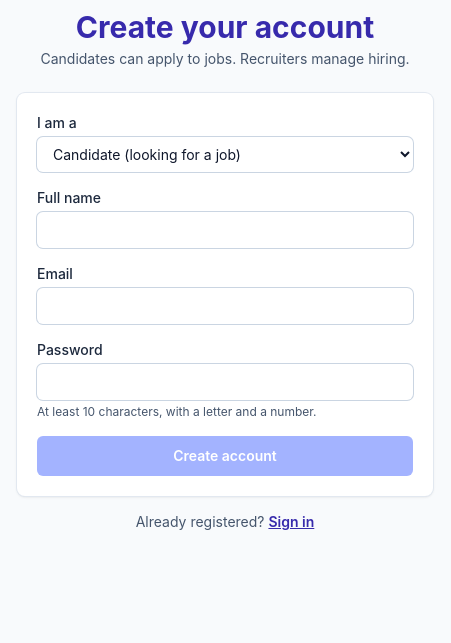
Test: Register › asks for the invite code only when registering as a recruiter
Expected: the field labelled "Recruiter invite code" is not shown
Select "Recruiter (hiring)" in the dropdown labelled "I am a" at x=225, y=154, box 37,137 -> 413,172
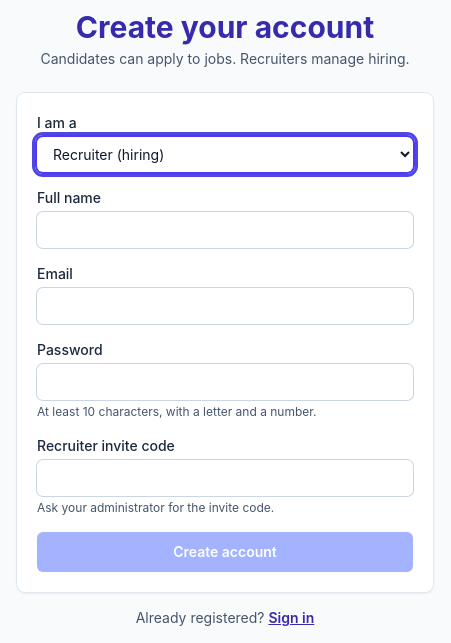
Result: the field labelled "Recruiter invite code" is shown at 37,460 -> 413,496
